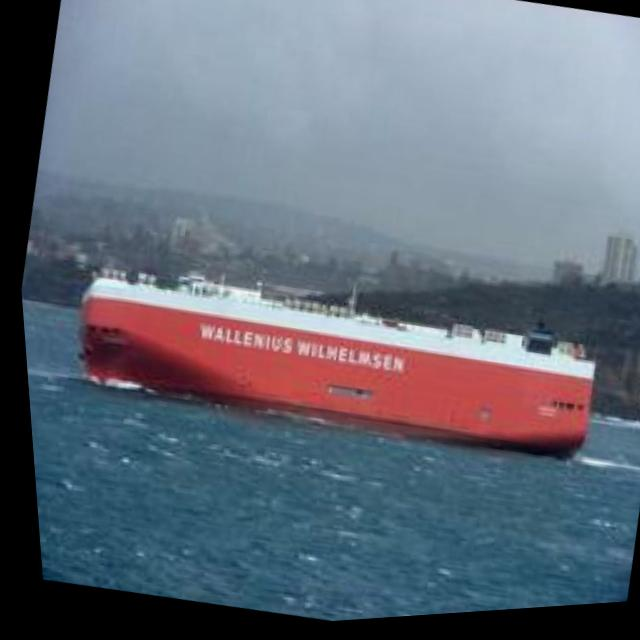ship2: (74, 279, 588, 468)
